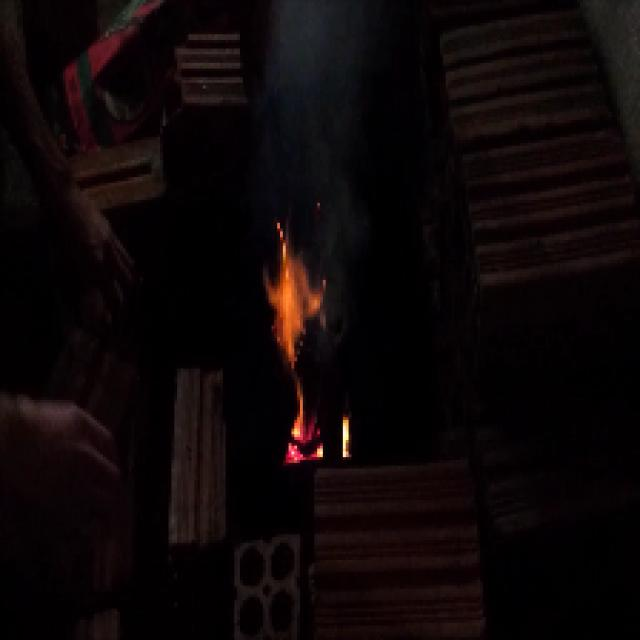fire: (269, 250, 324, 418)
smoke: (281, 12, 351, 196)
